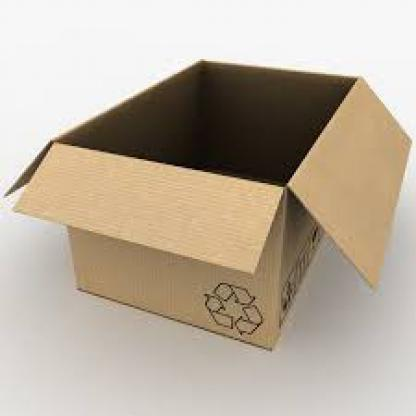CARDBOARD: (2, 58, 410, 350)
